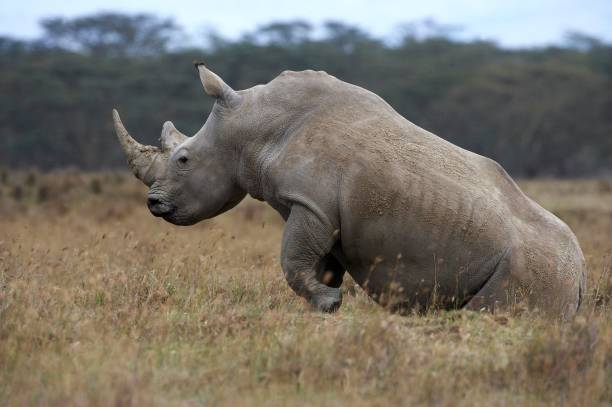rhino: (102, 57, 262, 231)
